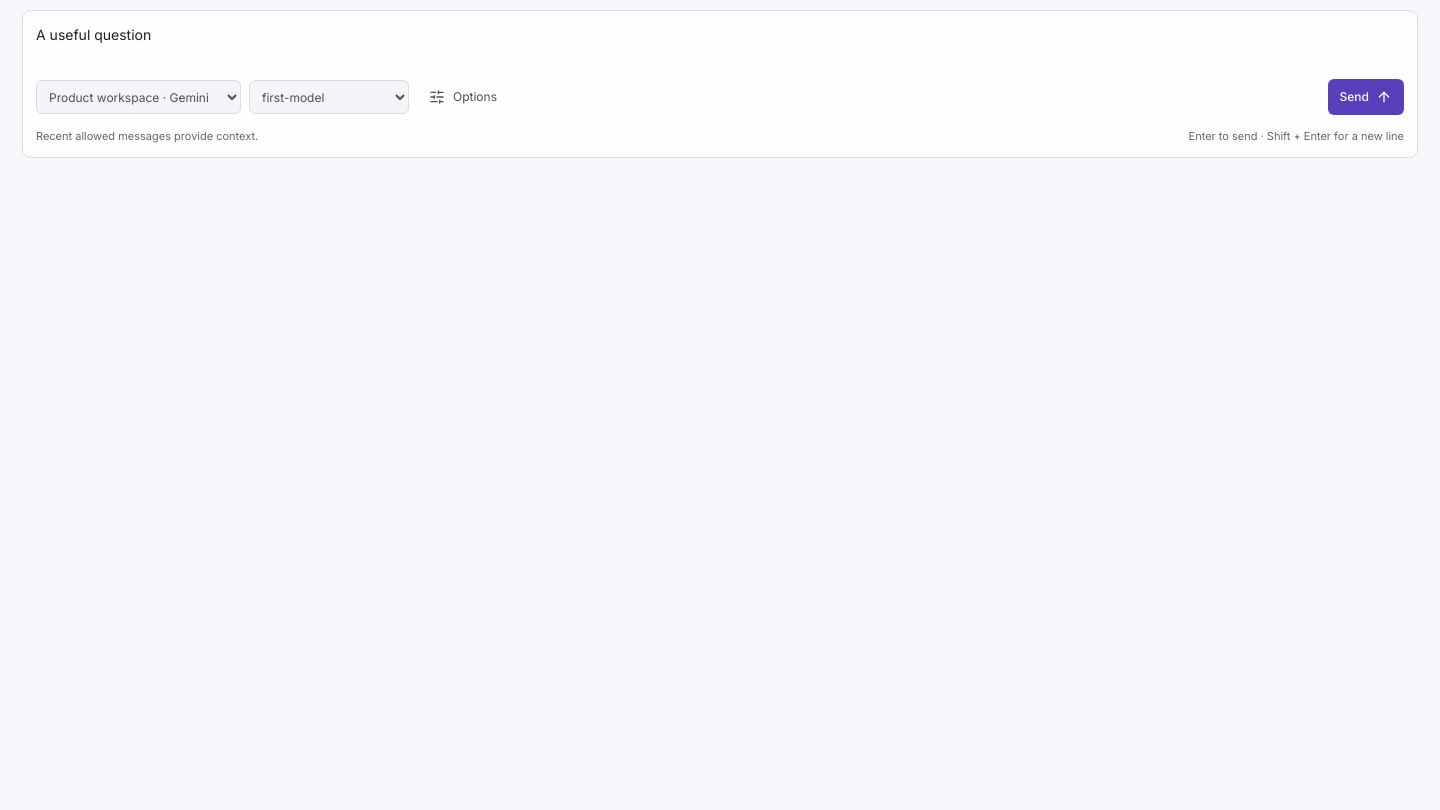
Test case: opens hidden settings and focuses an invalid temperature value of -0.1
Expected: the number field labelled "Temperature" is not shown
Click the button with aria-label "Send message": x=1366, y=97 [1328,79,1404,115]
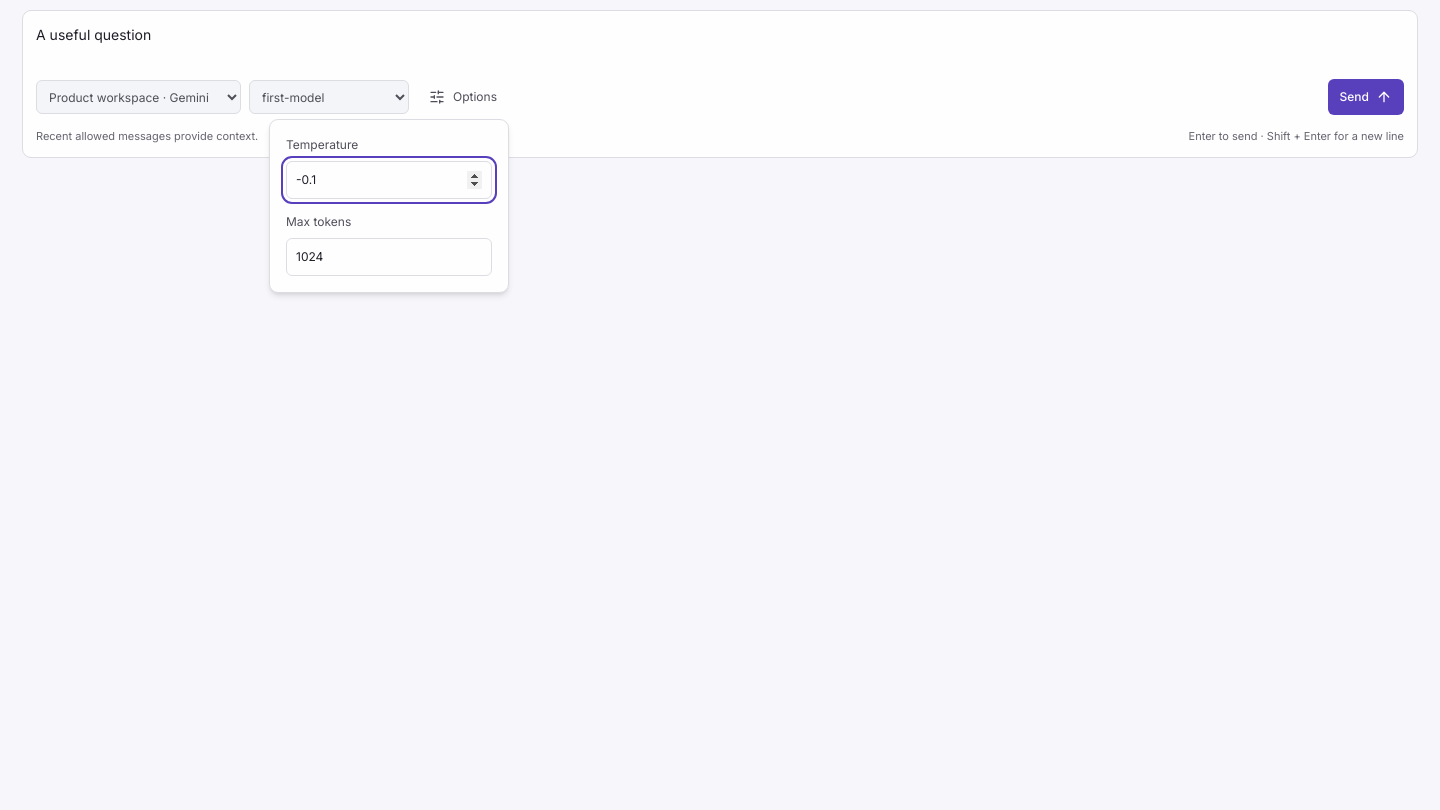
Now the number field labelled "Temperature" holds "-0.1", box [286,161,492,199]
